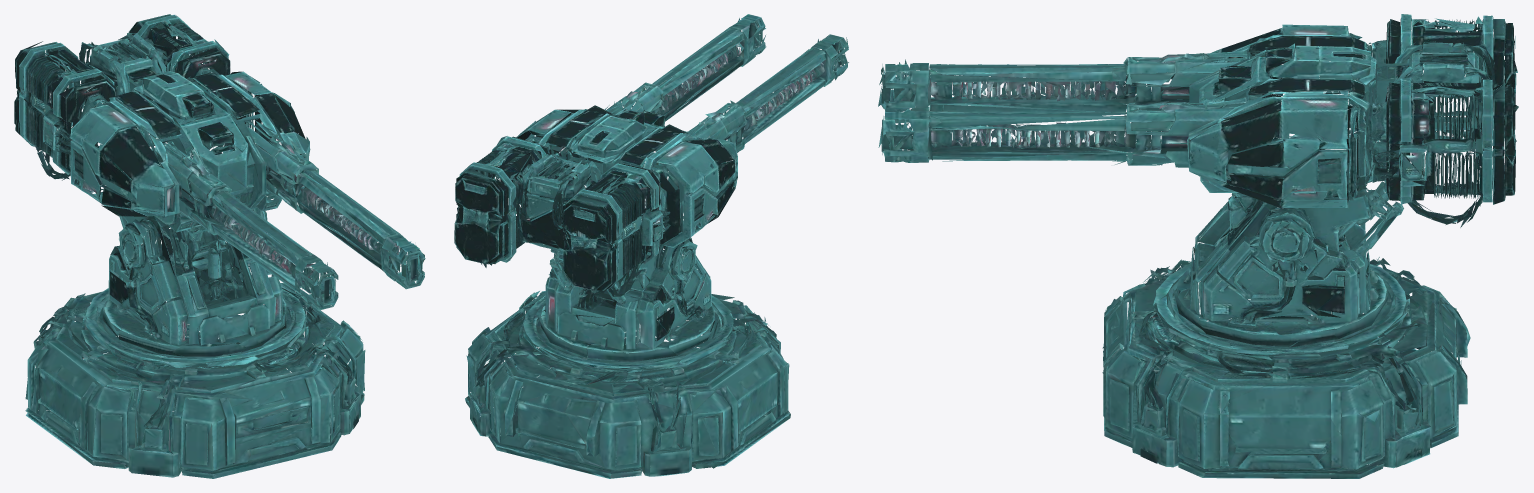
File: tower_rail_p2_t5.glb
The picture shows the model from 3 angles, left to right: view 1: azimuth 30°, elevation 25°; view 2: azimuth 150°, elevation 25°; view 3: azimuth 270°, elevation 25°; orthographic projection. The views are drawn at different scales.
Parts seen in each view (by area): view 1: head, base; view 2: head, base; view 3: head, base.
Part boxes in pixels (<box>): head: <box>14,14,425,310</box>; base: <box>25,241,365,478</box>; head: <box>454,14,848,302</box>; base: <box>465,254,790,478</box>; head: <box>878,14,1518,269</box>; base: <box>1102,207,1470,478</box>.
Size of the model in its own units: 0.7929 by 0.8558 by 1.4.
1 material, 1 textured.
